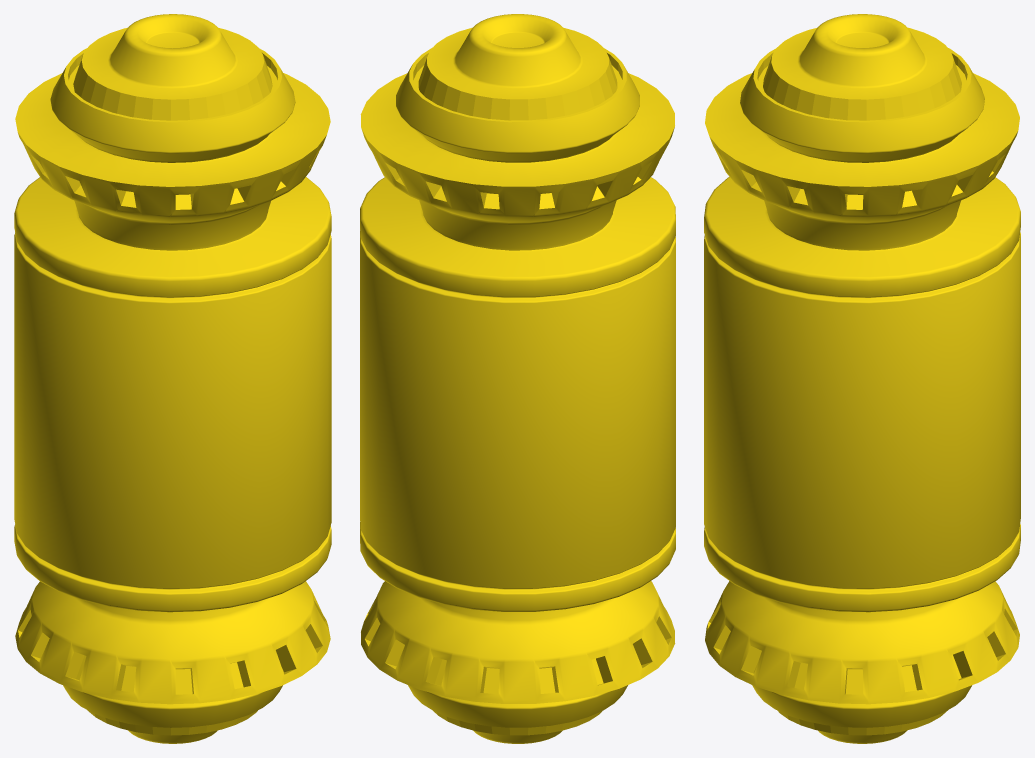
3 renders of one model, left to right at view 1: azimuth 30°, elevation 25°; view 2: azimuth 150°, elevation 25°; view 3: azimuth 270°, elevation 25°, orthographic.
Visible parts, largest first — view 1: Elec_Arm_10; view 2: Elec_Arm_10; view 3: Elec_Arm_10.
Boxes of the visible parts, x1=… form: Elec_Arm_10: x1=14, y1=14, x2=331, y2=743; Elec_Arm_10: x1=360, y1=14, x2=675, y2=743; Elec_Arm_10: x1=704, y1=14, x2=1020, y2=743.
Bounding box in the file's own units: 37.32 × 37.32 × 89.88.
